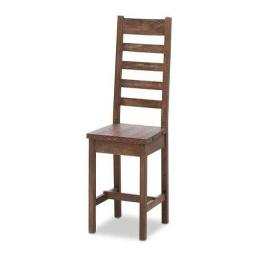Chair: (88, 16, 170, 240)
